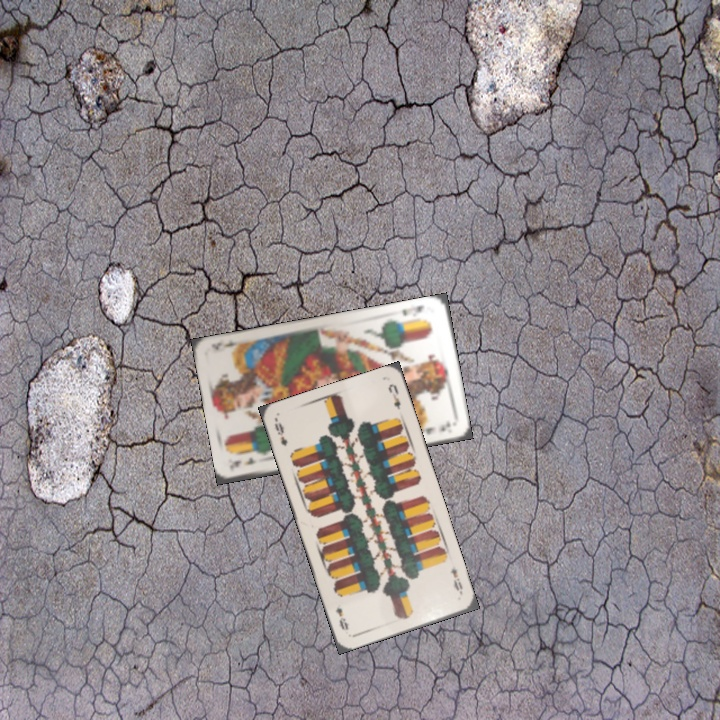E9: (446, 562, 465, 597), (270, 416, 290, 448)
EK: (397, 301, 426, 319), (228, 454, 259, 470)
